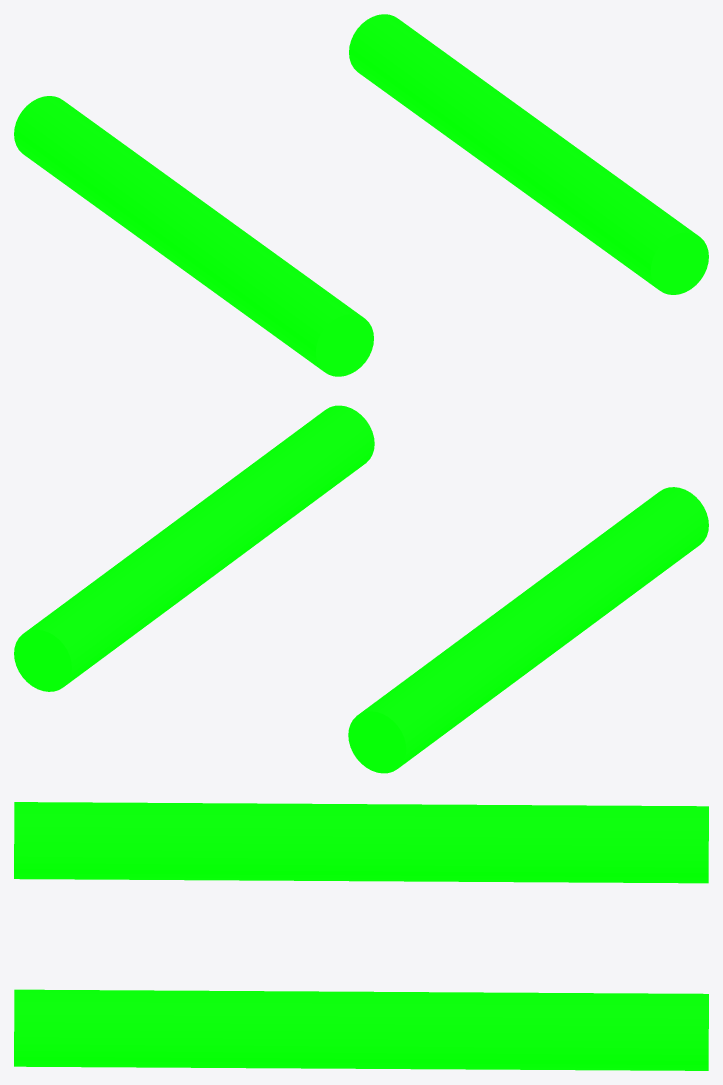
Rendered from tie_laser.fbx.
3 renders of one model, top to bottom at view 1: azimuth 30°, elevation 25°; view 2: azimuth 150°, elevation 25°; view 3: azimuth 270°, elevation 25°, orthographic. The views are drawn at different scales.
Visible parts, largest first — view 1: Cylinder.001, Cylinder; view 2: Cylinder.001, Cylinder; view 3: Cylinder.001, Cylinder.
Part boxes in pixels (x1,y1,x2,y2): Cylinder.001: (14,96,373,376); Cylinder: (349,14,708,294); Cylinder.001: (348,487,708,773); Cylinder: (14,405,374,691); Cylinder.001: (14,802,708,883); Cylinder: (14,989,708,1070).
Size of the model in its own units: 67.65 by 10.55 by 90.06.
